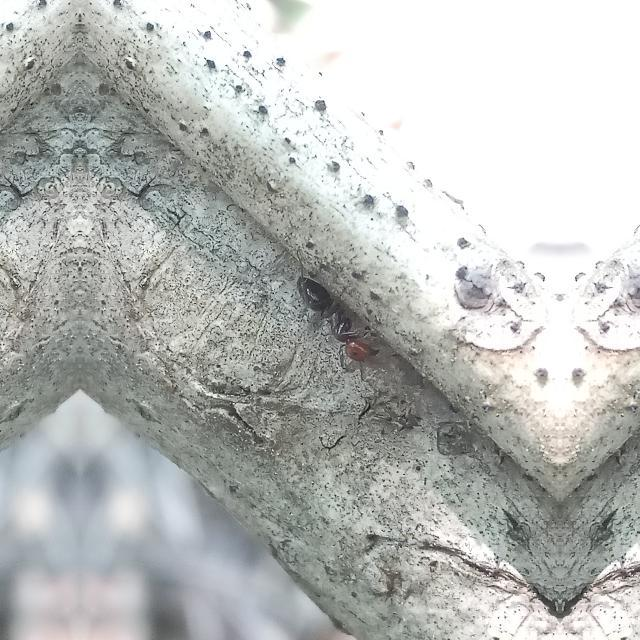Camponotus: (294, 269, 378, 373)
